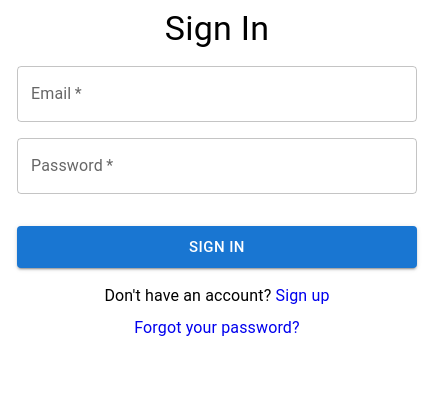
Test case: Login Component › handles login error
Step 1. Type "test@example.com" into the field labelled "Email *" → (217, 94), box [17,66,417,122]
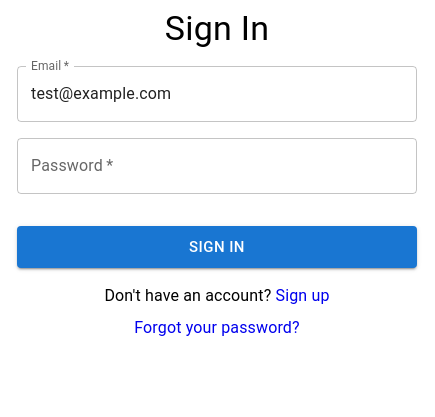
Step 2. Type "wrongpassword" into the password field labelled "Password *" → (217, 166), box [17,138,417,194]
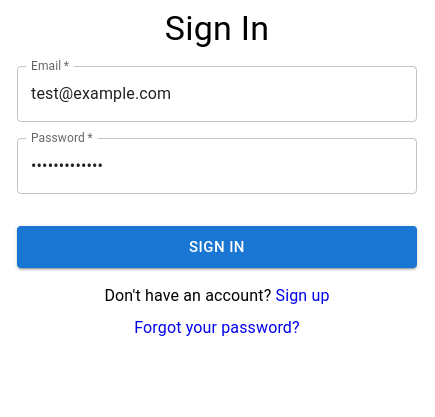
Step 3. Click the button "Sign In" → (217, 247), box [17,226,417,268]
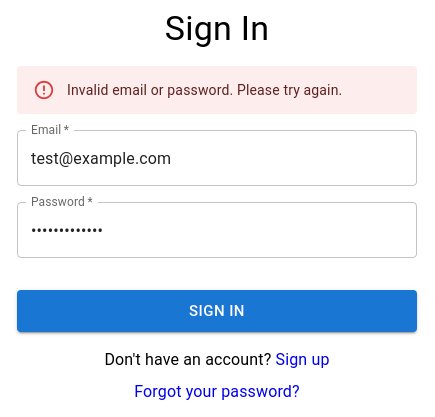
Expected: the text "Invalid email or password. Please try again." is shown, [67,82,342,98]
